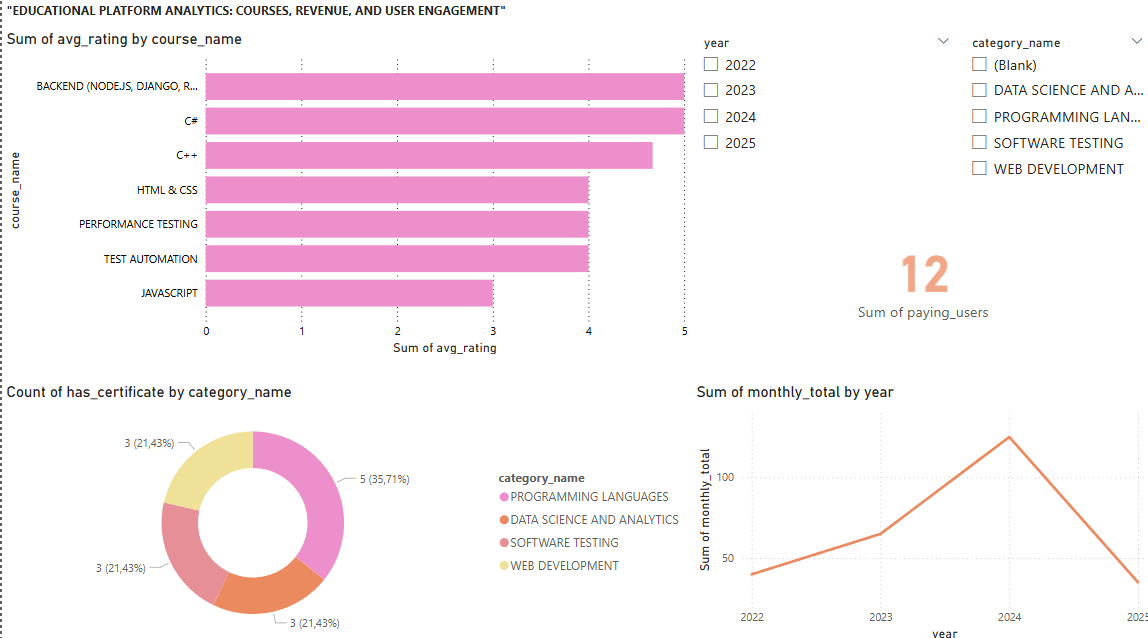

The page's visual inventory and layout, read from the dashboard file:
{"tool":"powerbi","page":{"name":"Page 1","canvas":[1280,720],"ordinal":0},"visuals":[{"type":"barChart","fields":{"Y":["Sum(dwh_Agg_Course_Rating.avg_rating)"],"Category":["dwh_Agg_Course_Rating.course_name"]},"box":[0,36.7,766.7,365],"z":0},{"type":"donutChart","fields":{"Y":["CountNonNull(public dwh_dim_course.has_certificate)"],"Category":["public dwh_dim_category.category_name"]},"box":[0,428.3,766.7,291.7],"z":1000},{"type":"card","fields":{"Values":["Sum(dwh_Agg_Monthly_Payments.paying_users)"]},"box":[766.7,220,513.3,181.7],"z":2000},{"type":"lineChart","fields":{"Category":["dwh_Agg_Monthly_Payments.year"],"Y":["Sum(dwh_Agg_Monthly_Payments.monthly_total)"]},"box":[766.7,428.3,513.3,291.7],"z":3000},{"type":"slicer","fields":{"Values":["dwh_Agg_Monthly_Payments.year"]},"box":[766.7,36.7,298.3,183.3],"z":4000},{"type":"slicer","fields":{"Values":["public dwh_dim_category.category_name"]},"box":[1065,36.7,215,183.3],"z":5000},{"type":"textbox","box":[0,0,604,37],"z":5001}]}

Visuals, with their boxes in screenshot pixels (x1, y1, x2, y2), scaled from the page's 1280x720 canvas onto the 1148x638 screenshot:
barChart - Sum(dwh_Agg_Course_Rating.avg_rating) x dwh_Agg_Course_Rating.course_name: 0, 33, 688, 356
donutChart - CountNonNull(public dwh_dim_course.has_certificate) x public dwh_dim_category.category_name: 0, 380, 688, 637
card - Sum(dwh_Agg_Monthly_Payments.paying_users): 688, 195, 1147, 356
lineChart - dwh_Agg_Monthly_Payments.year x Sum(dwh_Agg_Monthly_Payments.monthly_total): 688, 380, 1147, 637
slicer - dwh_Agg_Monthly_Payments.year: 688, 33, 955, 195
slicer - public dwh_dim_category.category_name: 955, 33, 1147, 195
textbox: 0, 0, 542, 33
